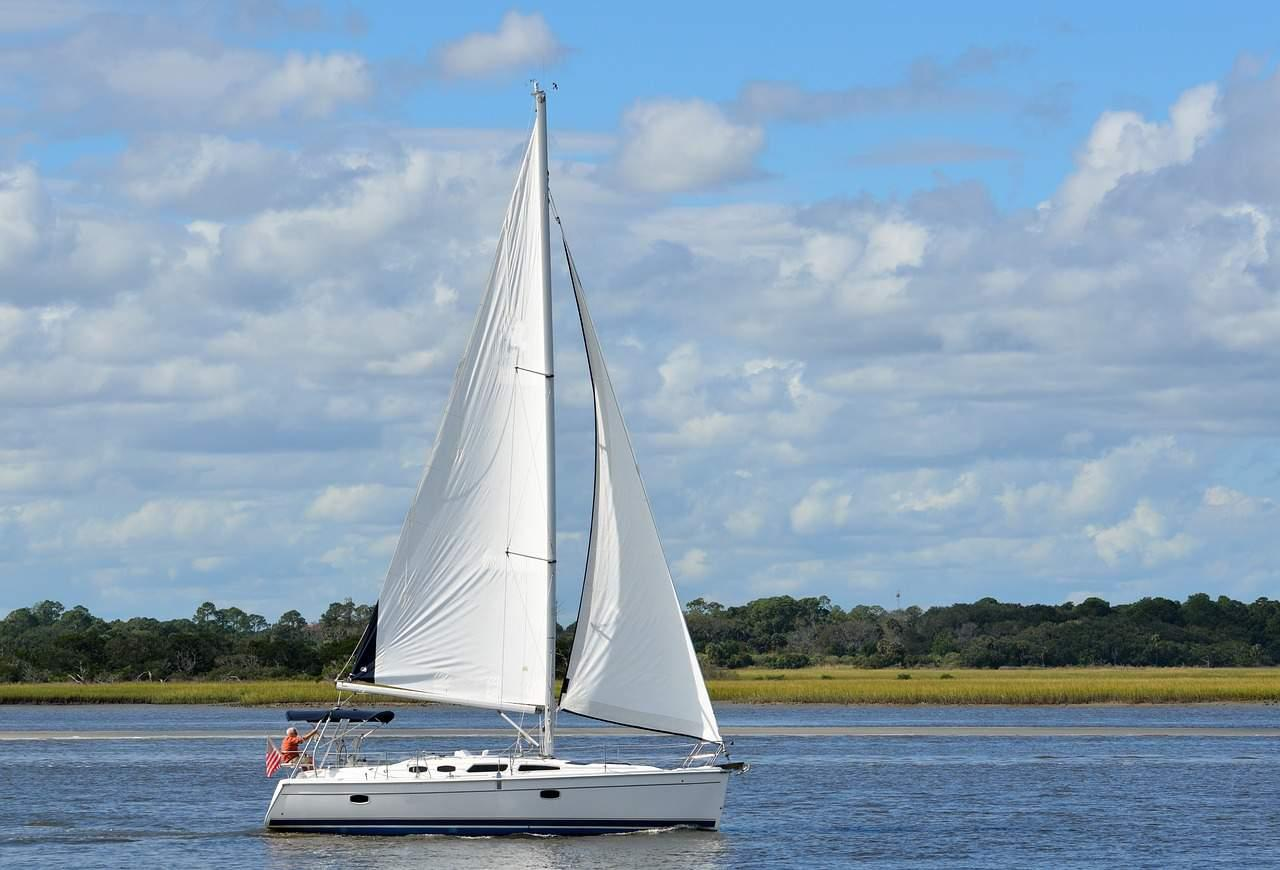Ship: (263, 85, 735, 838)
